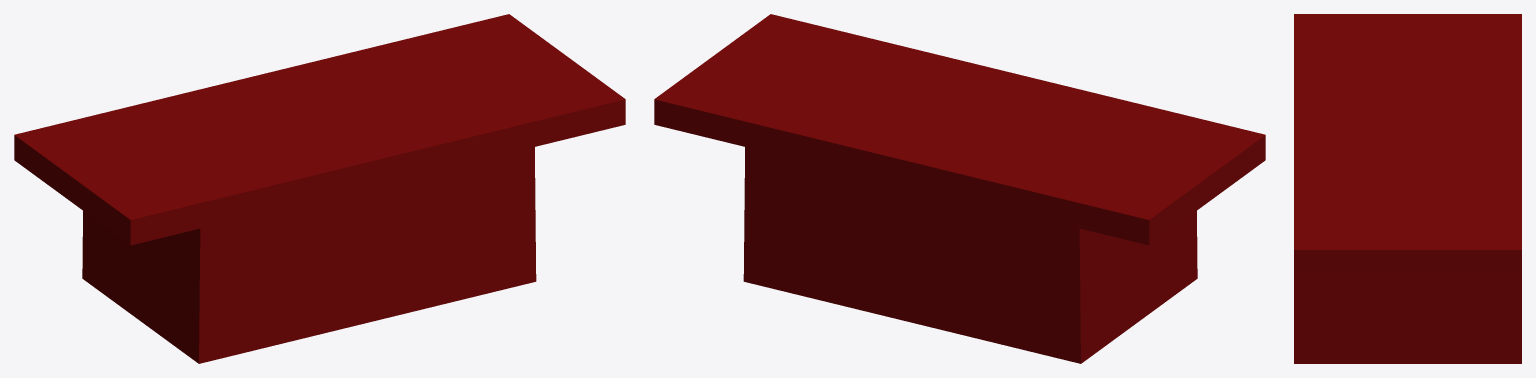
Rendered from diningTable.fbx.
The picture shows the model from 3 angles, left to right: view 1: azimuth 30°, elevation 25°; view 2: azimuth 150°, elevation 25°; view 3: azimuth 270°, elevation 25°; orthographic projection. The views are drawn at different scales.
Visible parts, largest first — view 1: diningTable_Col02, diningTable_Col01; view 2: diningTable_Col02, diningTable_Col01; view 3: diningTable_Col02, diningTable_Col01.
Boxes of the visible parts, x1,y1,x2,y2 form: diningTable_Col02: (82, 36, 536, 363); diningTable_Col01: (14, 14, 625, 245); diningTable_Col02: (743, 36, 1197, 363); diningTable_Col01: (654, 14, 1265, 245); diningTable_Col02: (1294, 47, 1521, 363); diningTable_Col01: (1294, 14, 1521, 274).
Size of the model in its own units: 255 by 79 by 104.
